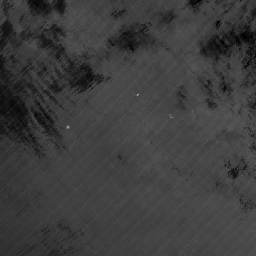Target: (64, 124, 71, 130)
